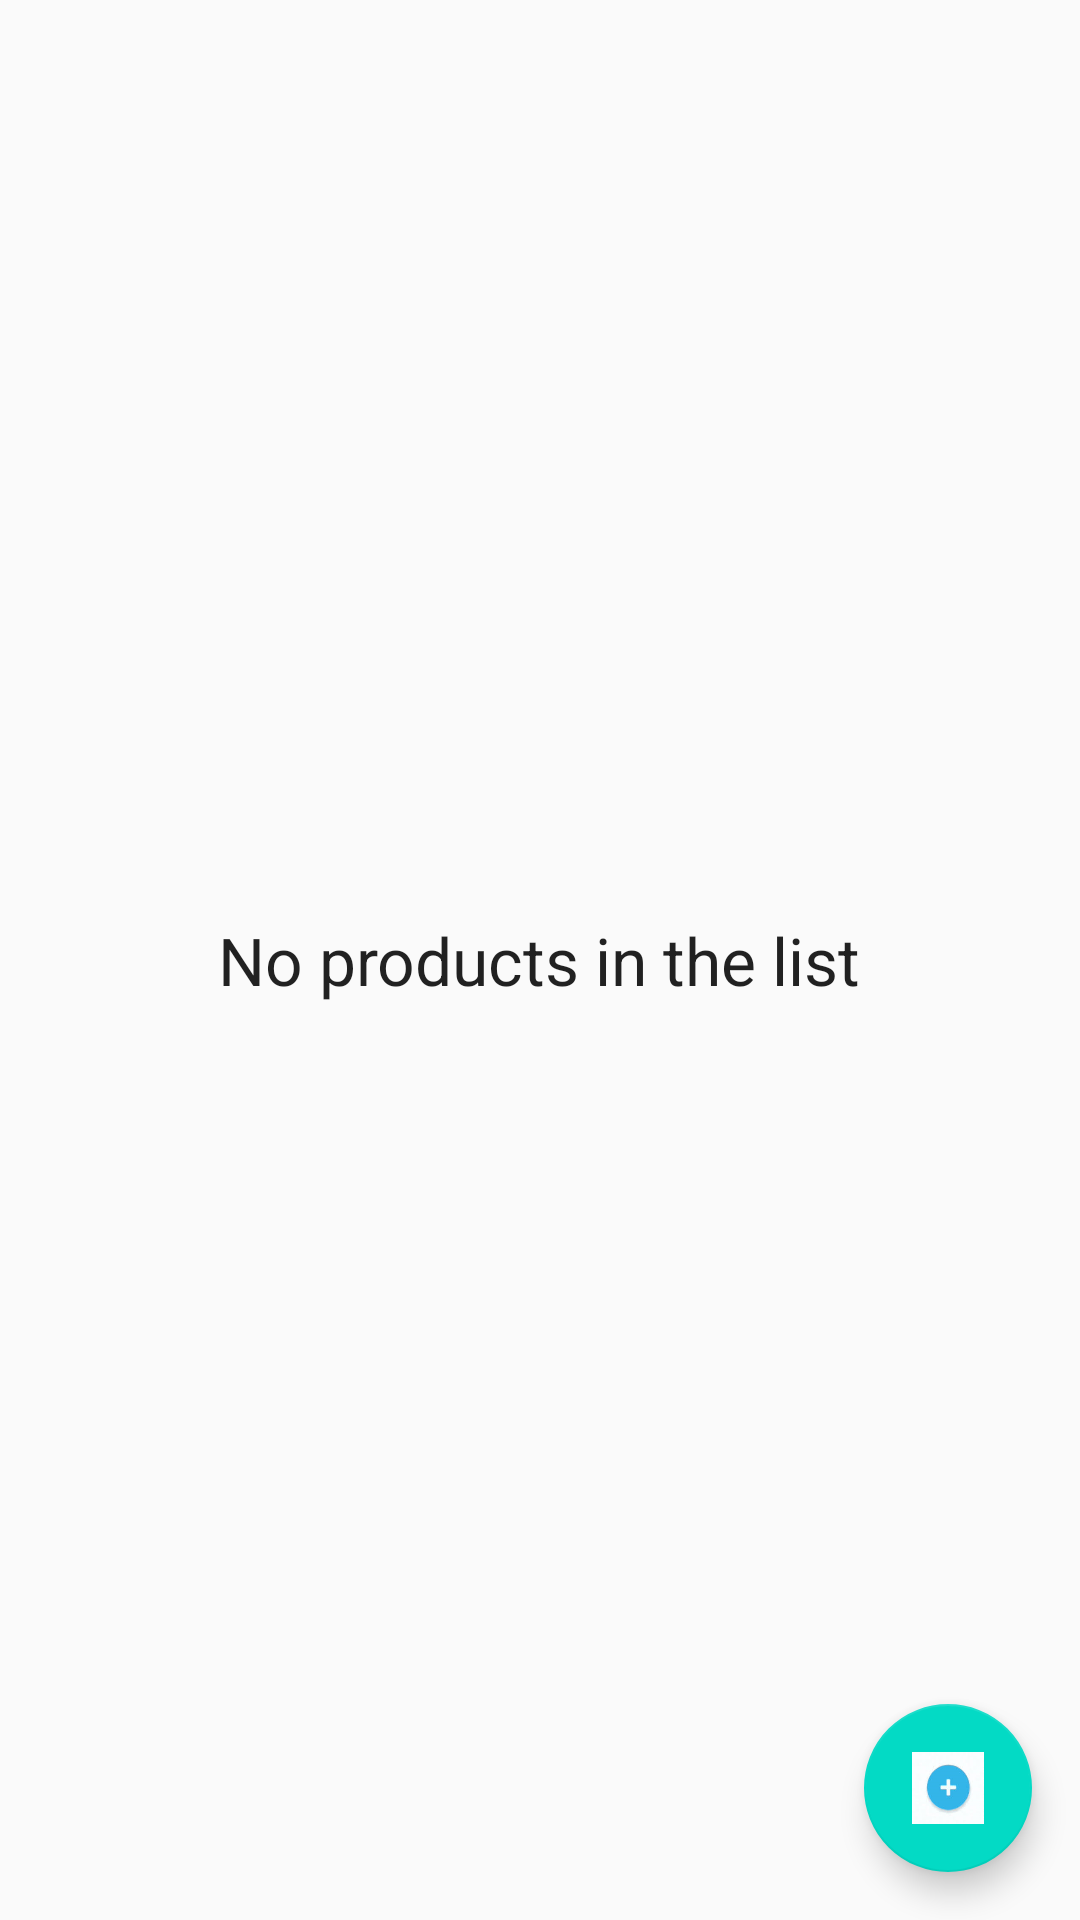

Screen size 1080 × 1920. Icon name, then its box in pixels as (x1, y1, x2, y2):
floatingbutton: (864, 1704, 1032, 1872)
